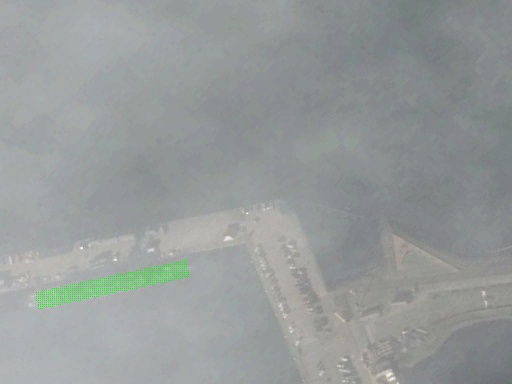ship: (26, 258, 199, 312)
